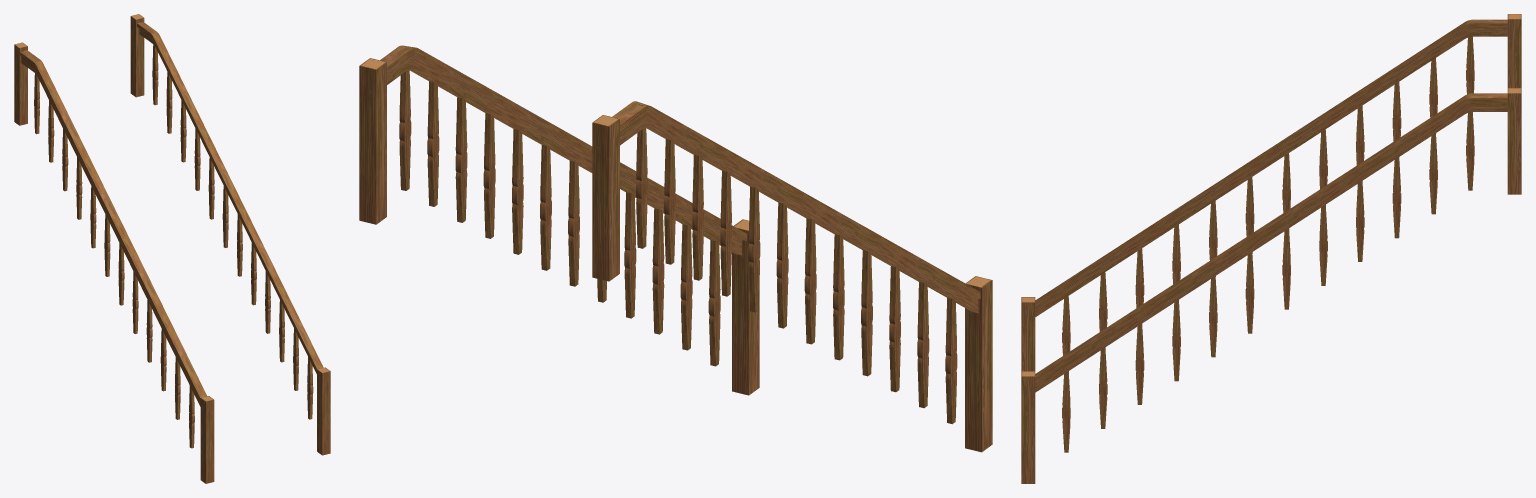
The model's file is Stair_Interior_Rails.glb.
3 renders of one model, left to right at view 1: azimuth 30°, elevation 25°; view 2: azimuth 150°, elevation 25°; view 3: azimuth 270°, elevation 25°, orthographic. The views are drawn at different scales.
Visible parts, largest first — view 1: Stair_Interior_Rails; view 2: Stair_Interior_Rails; view 3: Stair_Interior_Rails.
Part boxes in pixels (box(x1,y1,x2,y2)): Stair_Interior_Rails: box(14, 14, 330, 483); Stair_Interior_Rails: box(359, 45, 992, 452); Stair_Interior_Rails: box(1021, 14, 1521, 483).
Bounding box in the file's own units: 1.72 × 3.93 × 4.56.
Materials: 1 (1 with a texture image).
